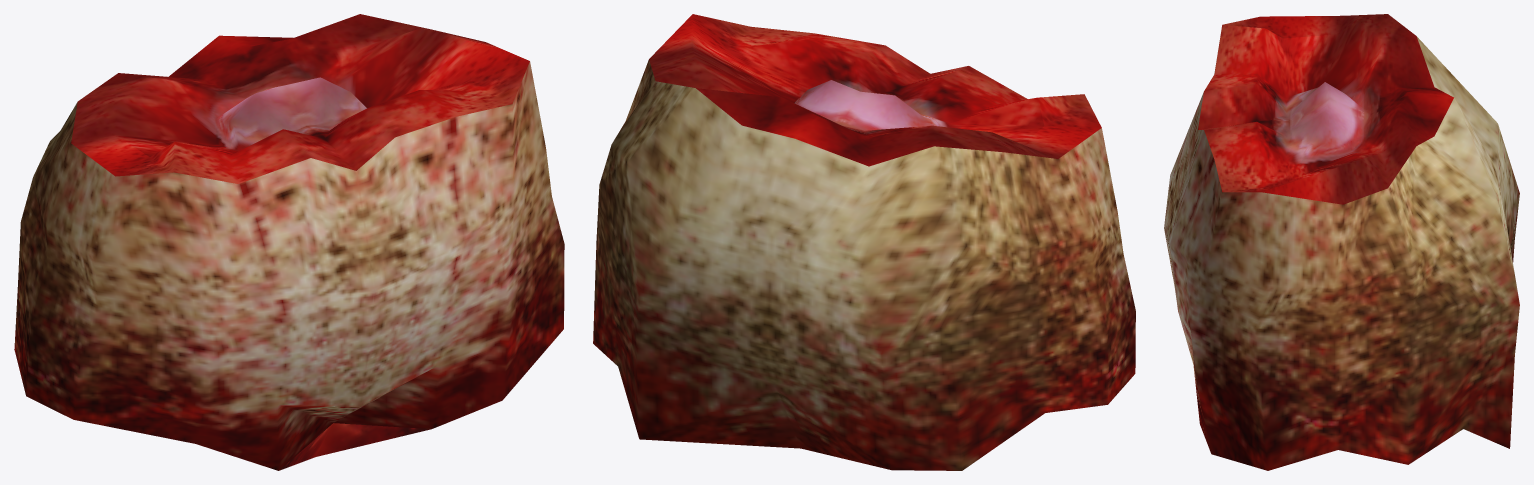
The model's file is male_hips.fbx.
3 renders of one model, left to right at view 1: azimuth 30°, elevation 25°; view 2: azimuth 150°, elevation 25°; view 3: azimuth 270°, elevation 25°, orthographic. The views are drawn at different scales.
Parts seen in each view (by area): view 1: hips_gib; view 2: hips_gib; view 3: hips_gib.
Boxes of the visible parts, left/top/right/bottom form: hips_gib: left=14, top=14, right=564, bottom=470; hips_gib: left=593, top=14, right=1135, bottom=470; hips_gib: left=1164, top=14, right=1519, bottom=470.
Bounding box in the file's own units: 0.4208 × 0.2842 × 0.2724.
